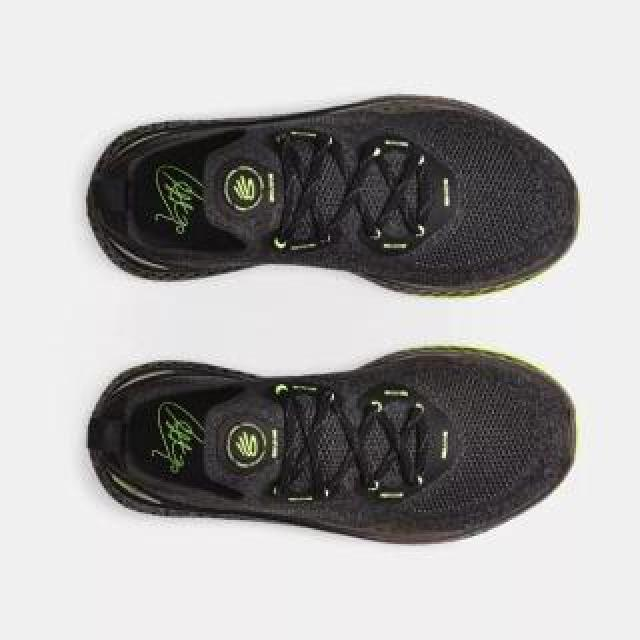shoe: (84, 94, 580, 298), (88, 344, 578, 546)
